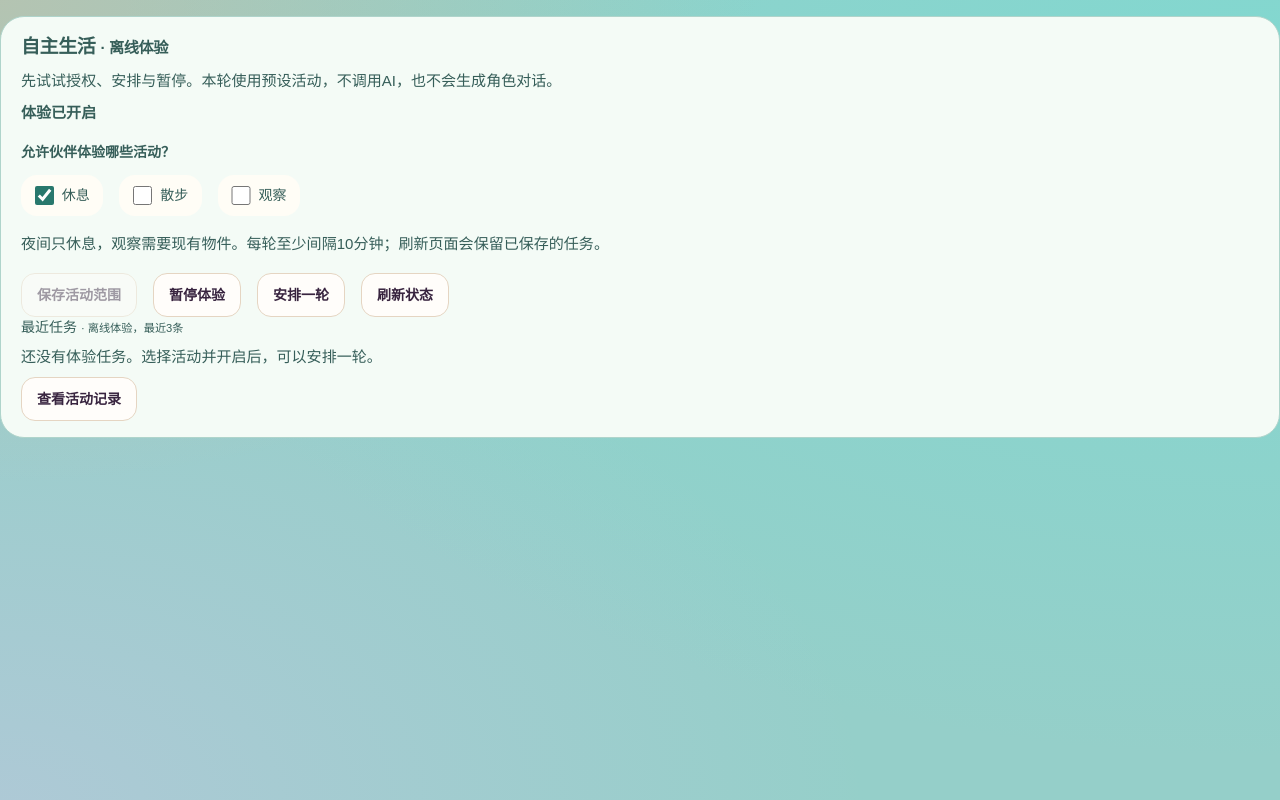
Test case: blocks writes while state is unknown and retains draft until read recovers
The width and height of the screenshot is (1280, 800).
Expected: the text "体验已开启" is shown, [21,104,96,121]
Click the checkbox labelled "散步": click(143, 195) [133,186,152,205]
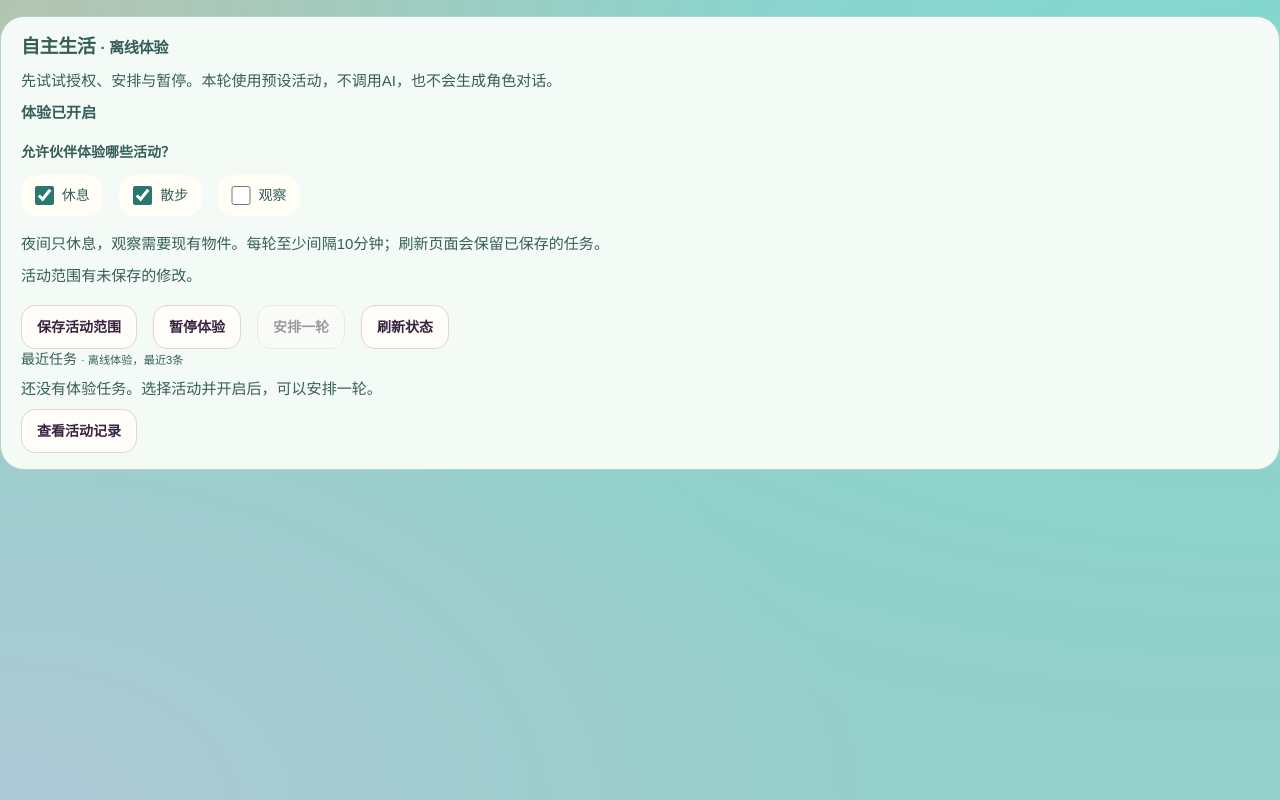
Click the button "保存活动范围": click(79, 327) [21,305,137,349]
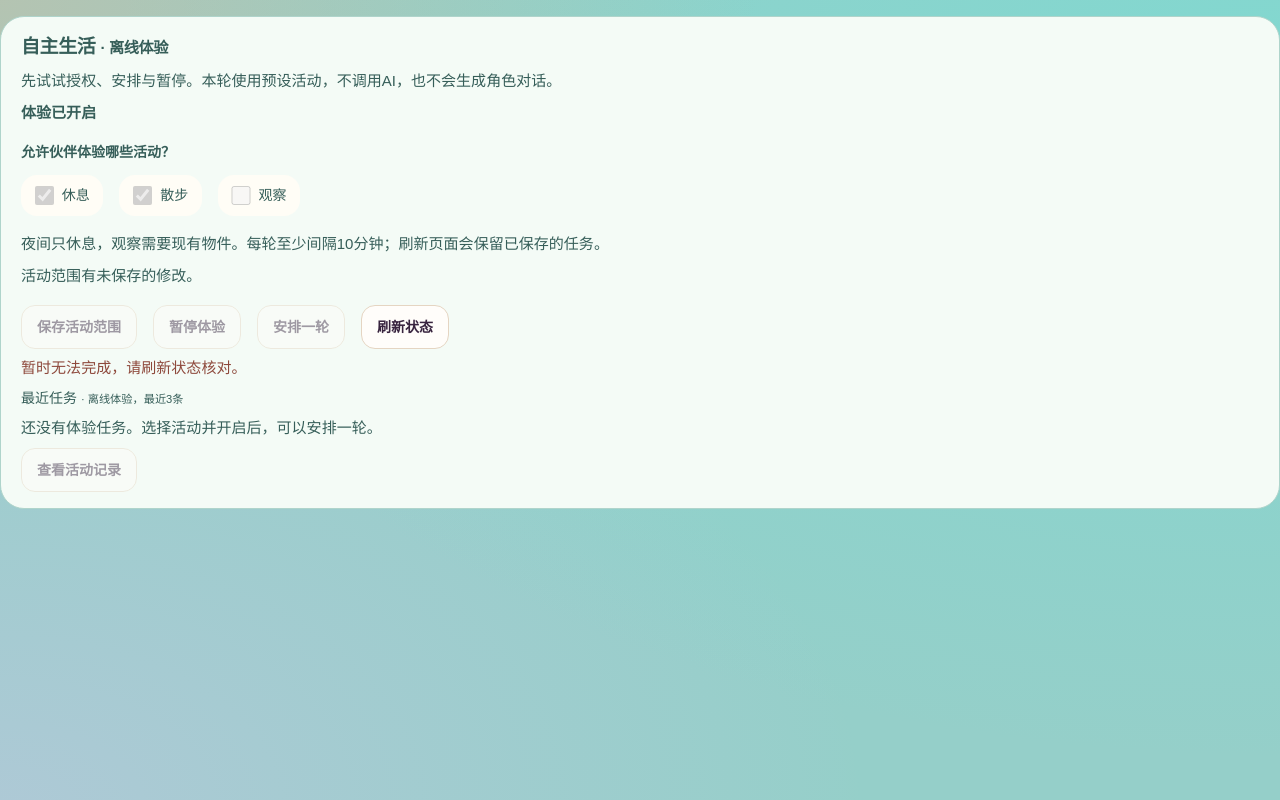
Now the checkbox labelled "散步" is checked, box [133,186,152,205]
Now the button "保存活动范围" is disabled, box [21,305,137,349]
Click the button "刷新状态": click(405, 327) [361,305,449,349]
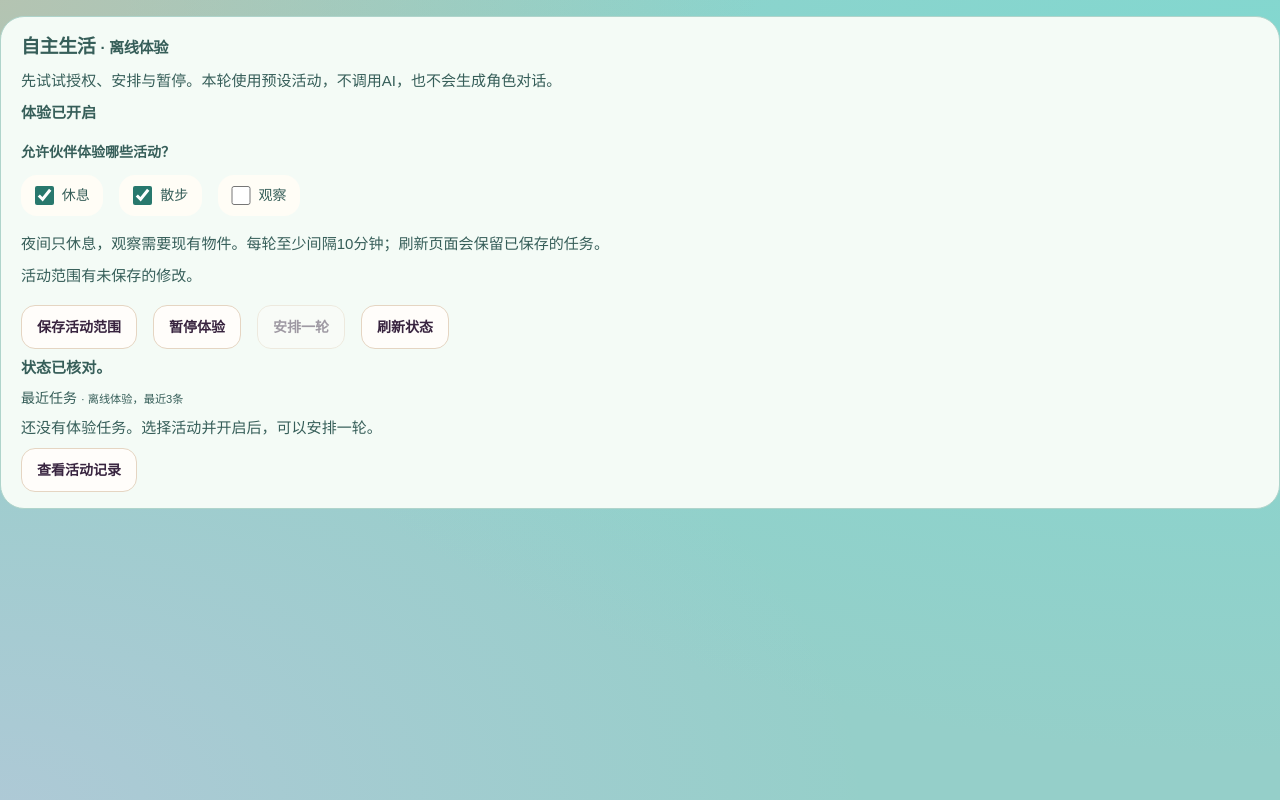
Now the text "状态已核对。" is shown, box [21,359,111,376]
Now the button "保存活动范围" is enabled, box [21,305,137,349]
